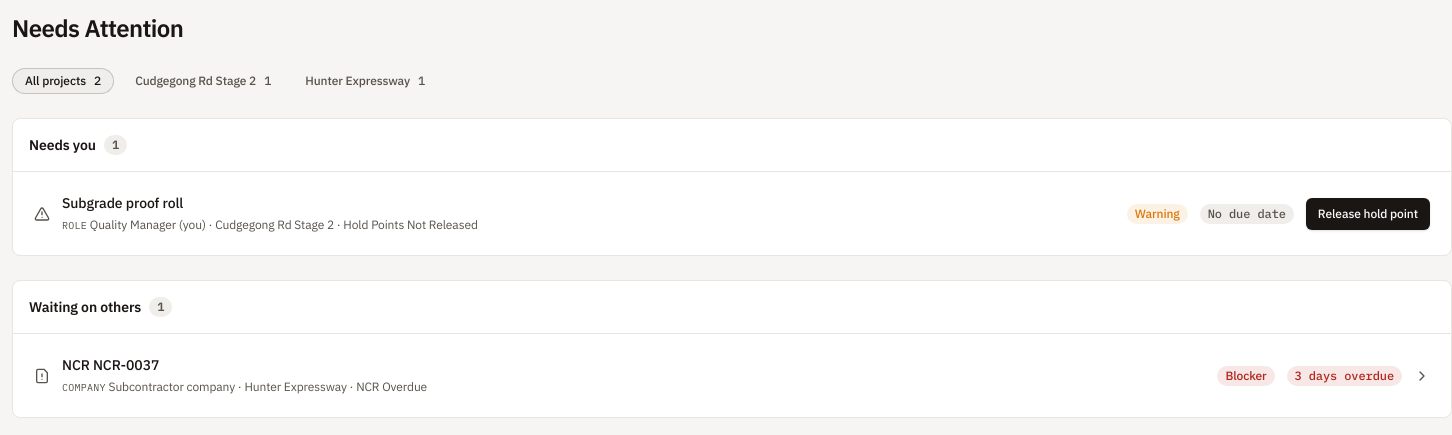
Test case: NeedsAttentionPage › filters the company-wide list by project without re-grouping it
Click the button "Hunter Expressway 1": {"x": 365, "y": 81} [292, 68, 438, 94]
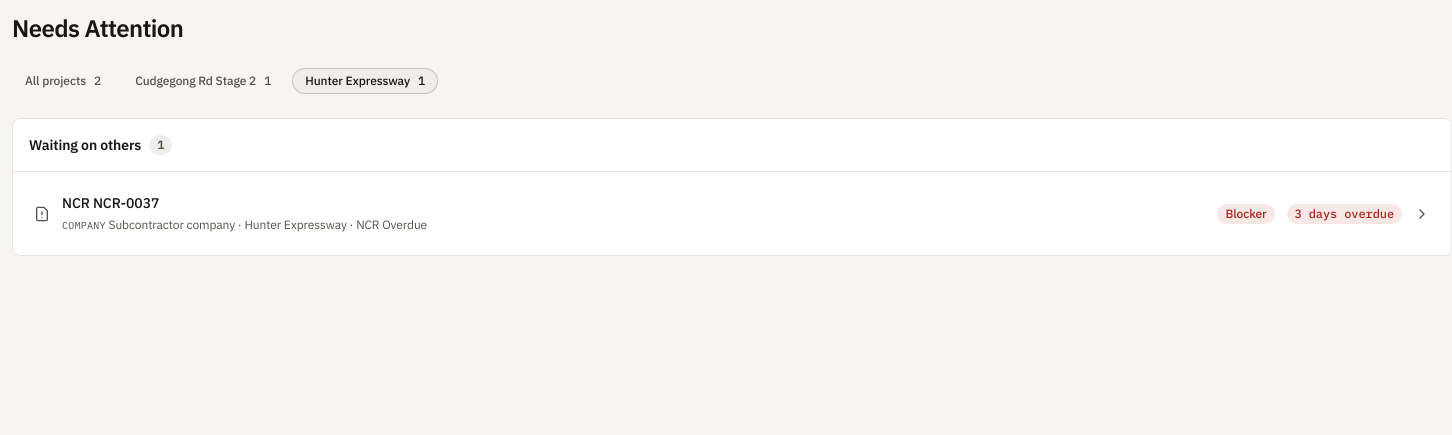
Expected: the text "NCR NCR-0037" is shown, [62, 194, 159, 212]
Result: the link "Subgrade proof roll" is gone
Result: the heading "Needs you" is gone
